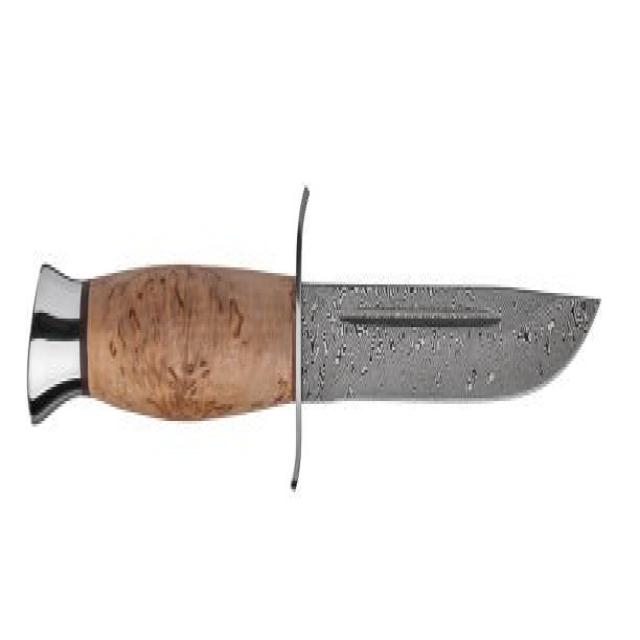knife: (24, 180, 603, 507)
